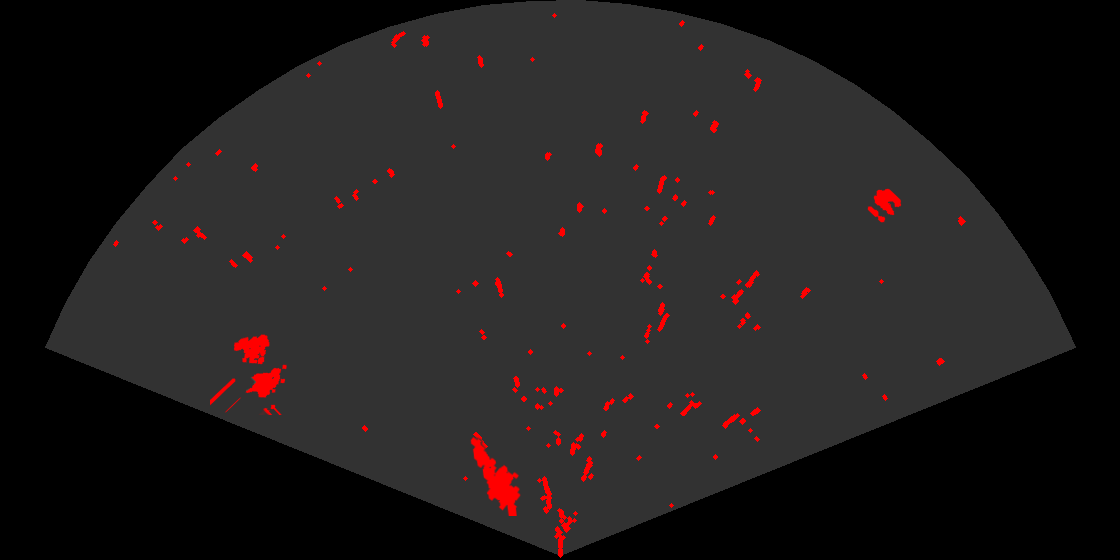ball: (866, 187, 903, 224)
cage: (210, 333, 288, 415)
frogman: (469, 435, 522, 516)
